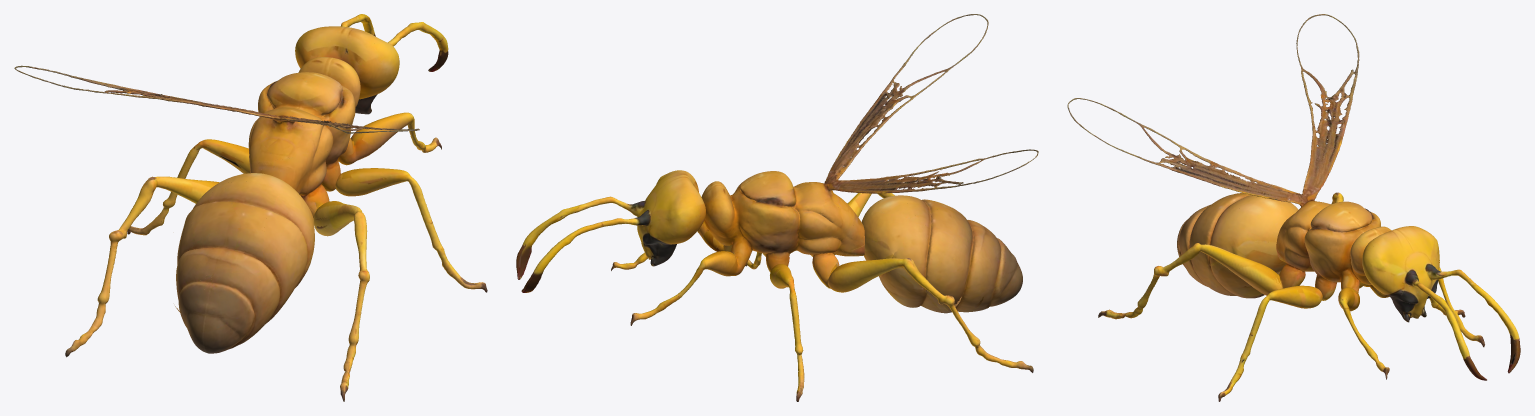
The model's file is termites_3D.glb.
The picture shows the model from 3 angles, left to right: view 1: azimuth 30°, elevation 25°; view 2: azimuth 150°, elevation 25°; view 3: azimuth 270°, elevation 25°; orthographic projection. The views are drawn at different scales.
Visible parts, largest first — view 1: Object_4, Object_5; view 2: Object_4, Object_5; view 3: Object_4, Object_5.
Part boxes in pixels (box(x1,y1,x2,y2)): Object_4: box(14, 14, 487, 401); Object_5: box(17, 29, 403, 326); Object_4: box(516, 14, 1035, 372); Object_5: box(642, 87, 1038, 401); Object_4: box(1067, 14, 1520, 401); Object_5: box(1168, 14, 1465, 317).
Size of the model in its own units: 1.84 by 0.9401 by 1.69.
1 material, 1 textured.
